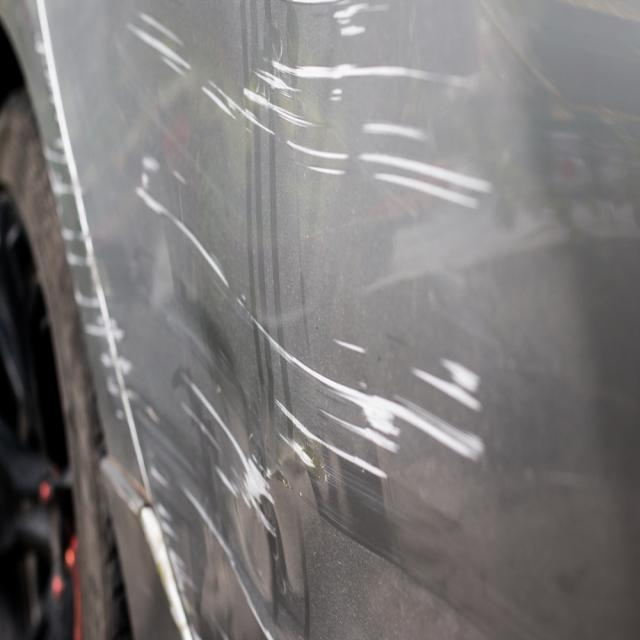scratch: (26, 0, 496, 640)
